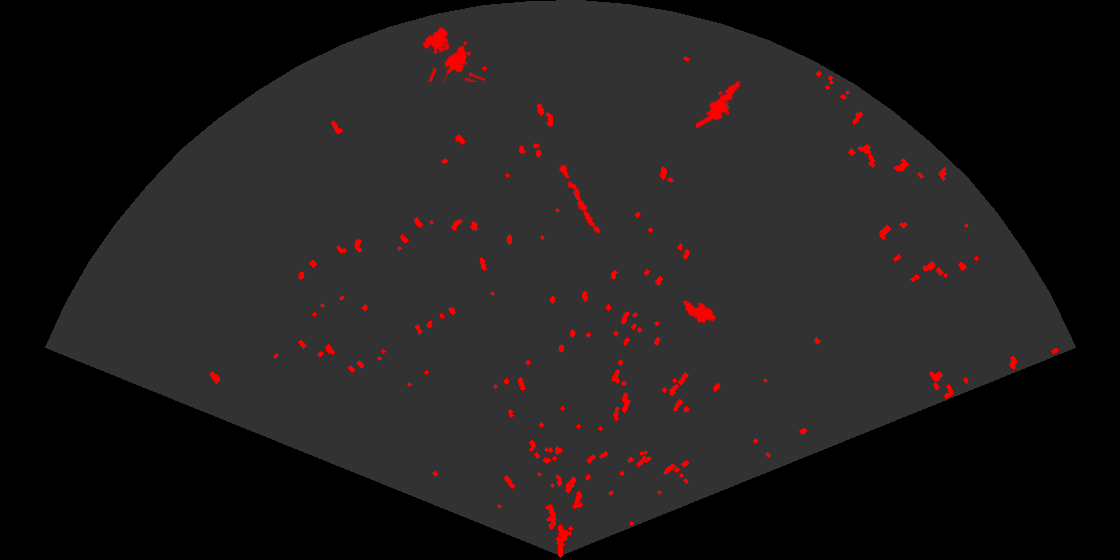AUV: (681, 299, 718, 325)
cage: (421, 26, 485, 82)
chain: (556, 159, 602, 235)
frogman: (696, 77, 750, 128)
